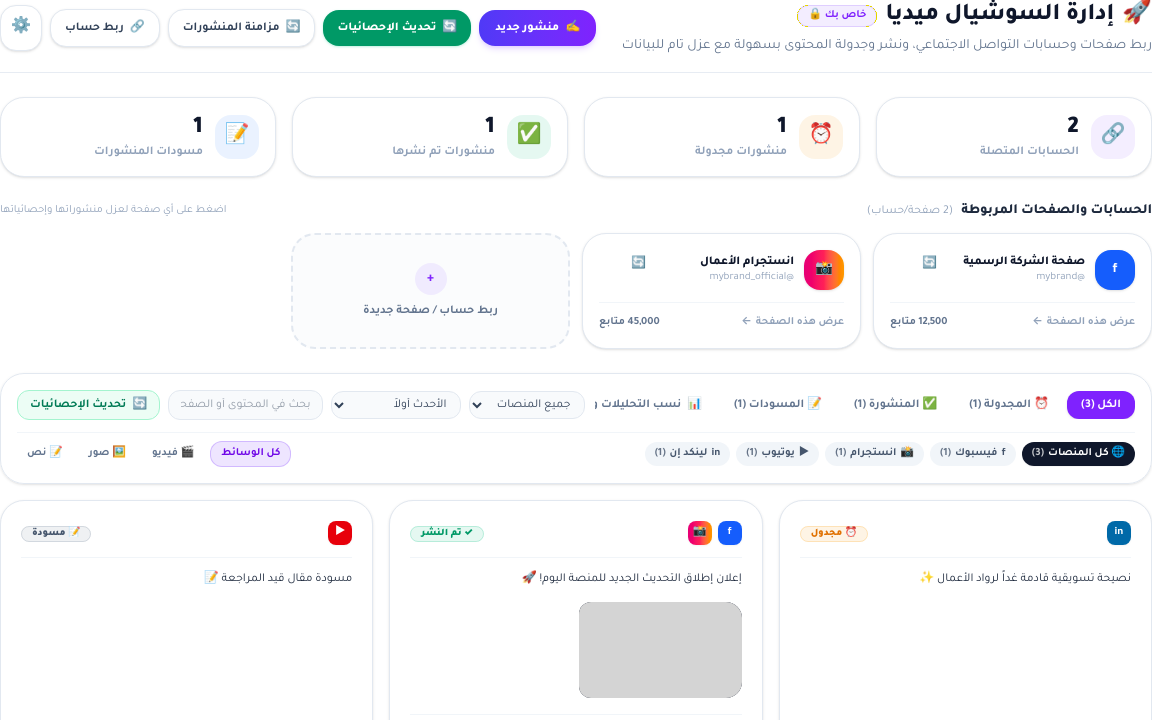
Scenario: SocialMediaBoard.vue and Social Media Management Features › opens and cancels new post composer modal
# Click new post button
Click the button "✍️ منشور جديد": click(538, 28) [479,10,596,46]
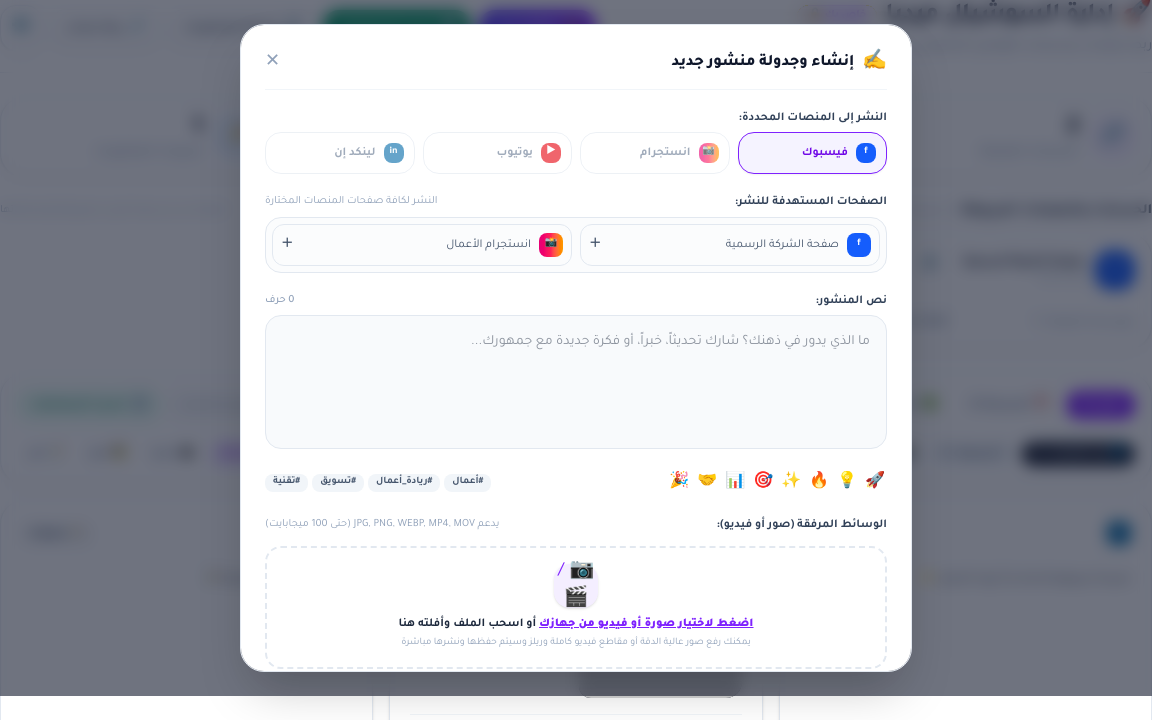
Now the text box is shown, box [265,315,887,449]
